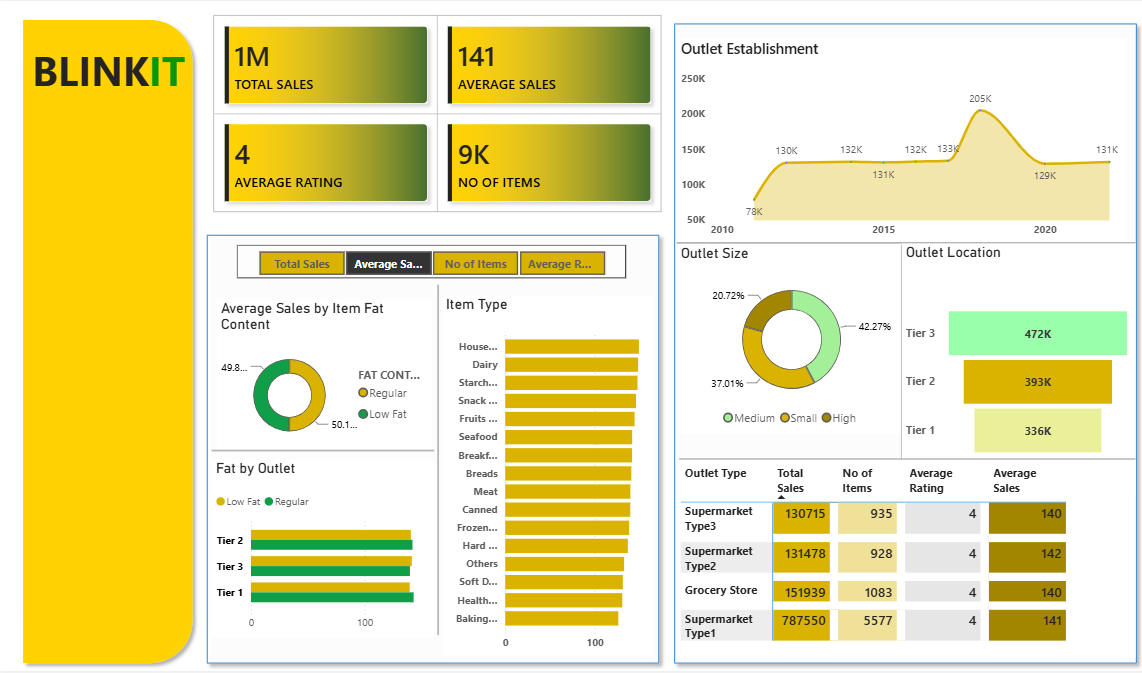

The page's visual inventory and layout, read from the dashboard file:
{"tool":"powerbi","page":{"name":"Page 1","canvas":[1400,800],"ordinal":0},"visuals":[{"type":"shape","box":[27,13.5,220.6,786.5],"z":0},{"type":"textbox","box":[42,45,625.9,87.1],"z":1000},{"type":"cardVisual","fields":{"Data":["BlinkIT Grocery Data.Total Sales","BlinkIT Grocery Data.Average Sales","BlinkIT Grocery Data.Average Rating","BlinkIT Grocery Data.No of Items"]},"box":[246.7,0,570,270],"z":2000},{"type":"shape","box":[246.3,270.2,558.3,530],"z":3000},{"type":"donutChart","fields":{"Y":["BlinkIT Grocery Data.Total Sales"],"Category":["BlinkIT Grocery Data.Item Fat Content"]},"box":[267.2,356.8,258.1,178.6],"z":4000},{"type":"slicer","fields":{"Values":["Metrics.Metrics"]},"box":[291.1,291.1,465,40],"z":5000},{"type":"clusteredBarChart","title":"Fat by Outlet","fields":{"Y":["BlinkIT Grocery Data.Total Sales"],"Series":["BlinkIT Grocery Data.Item Fat Content"],"Category":["BlinkIT Grocery Data.Outlet Location Type"]},"box":[261.3,547.9,265.7,213.1],"z":6000},{"type":"shape","box":[261.3,494.1,265.7,85.5],"z":7000},{"type":"shape","box":[355.7,339.2,352.7,418.7],"z":8000},{"type":"barChart","title":"Item Type","fields":{"Y":["BlinkIT Grocery Data.Total Sales"],"Category":["BlinkIT Grocery Data.Item Type"]},"box":[535.9,352.3,252.3,431.4],"z":9000},{"type":"shape","box":[804.7,17.9,570.3,782.3],"z":10000},{"type":"lineChart","title":"Outlet Establishment","fields":{"Category":["BlinkIT Grocery Data.Outlet Establishment Year"],"Y":["BlinkIT Grocery Data.Total Sales"]},"box":[816.6,44.8,535.9,246.3],"z":11000},{"type":"shape","box":[816.6,246.3,547.9,85.1],"z":12000},{"type":"donutChart","title":"Outlet Size","fields":{"Y":["BlinkIT Grocery Data.Total Sales"],"Category":["BlinkIT Grocery Data.Outlet Size"]},"box":[816.6,291.1,274.7,225.4],"z":13000},{"type":"shape","box":[909.2,291.1,352.3,256.8],"z":14000},{"type":"funnel","title":"Outlet Location","fields":{"Category":["BlinkIT Grocery Data.Outlet Location Type"],"Y":["BlinkIT Grocery Data.Total Sales"]},"box":[1085.3,289.6,279.2,300.1],"z":15000},{"type":"shape","box":[819.6,504.6,544.9,85.1],"z":16000},{"type":"pivotTable","fields":{"Rows":["BlinkIT Grocery Data.Outlet Type"],"Values":["BlinkIT Grocery Data.Total Sales","BlinkIT Grocery Data.No of Items","BlinkIT Grocery Data.Average Rating","BlinkIT Grocery Data.Average Sales","Sum(BlinkIT Grocery Data.Item Visibility)"]},"box":[816.6,547.9,547.9,235.9],"z":17000}]}

Visuals, with their boxes on the page's 1400x800 design canvas (x1, y1, x2, y2). These are canvas units, not pixel positions in the 1142x673 screenshot, which may show the page scaled, cropped or inside an application window:
shape: crop(27, 14, 248, 800)
textbox: crop(42, 45, 668, 132)
cardVisual - BlinkIT Grocery Data.Total Sales x BlinkIT Grocery Data.Average Sales: crop(247, 0, 817, 270)
shape: crop(246, 270, 805, 800)
donutChart - BlinkIT Grocery Data.Total Sales x BlinkIT Grocery Data.Item Fat Content: crop(267, 357, 525, 535)
slicer - Metrics.Metrics: crop(291, 291, 756, 331)
"Fat by Outlet" clusteredBarChart: crop(261, 548, 527, 761)
shape: crop(261, 494, 527, 580)
shape: crop(356, 339, 708, 758)
"Item Type" barChart: crop(536, 352, 788, 784)
shape: crop(805, 18, 1375, 800)
"Outlet Establishment" lineChart: crop(817, 45, 1352, 291)
shape: crop(817, 246, 1364, 331)
"Outlet Size" donutChart: crop(817, 291, 1091, 516)
shape: crop(909, 291, 1262, 548)
"Outlet Location" funnel: crop(1085, 290, 1364, 590)
shape: crop(820, 505, 1364, 590)
pivotTable - BlinkIT Grocery Data.Outlet Type x BlinkIT Grocery Data.Total Sales: crop(817, 548, 1364, 784)
